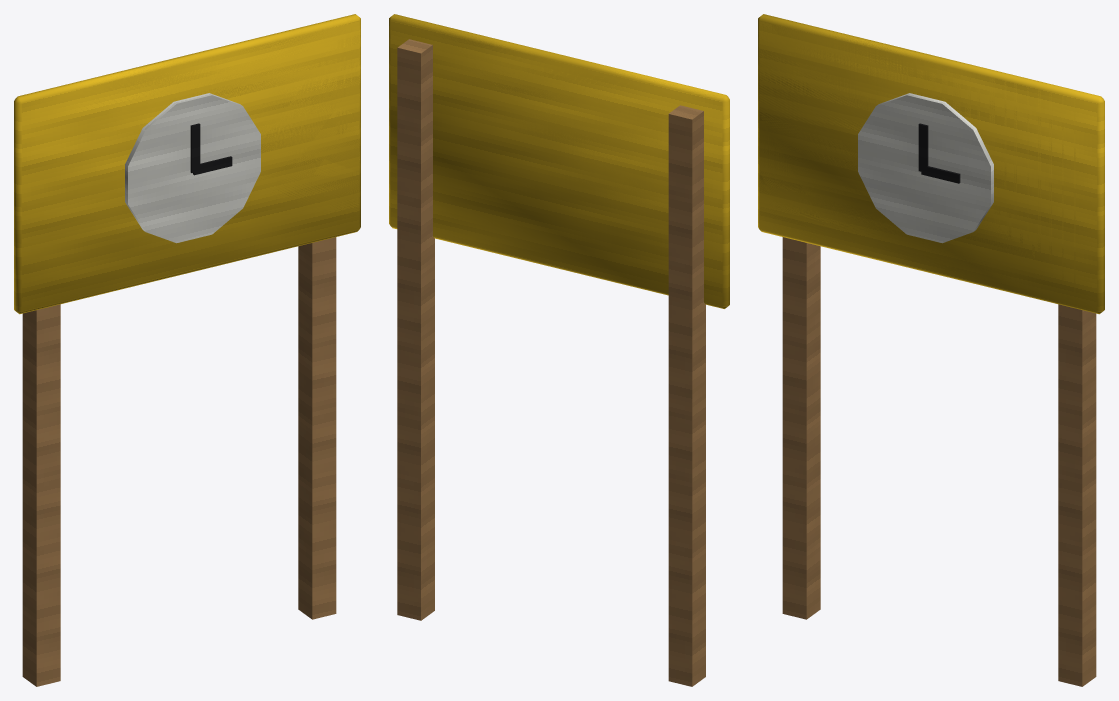
Rendered from placa_ponto_controle.glb.
3 views of the same model, side by side, from view 1: azimuth 30°, elevation 25°; view 2: azimuth 150°, elevation 25°; view 3: azimuth 330°, elevation 25° (orthographic).
Visible parts, largest first — view 1: Inteiro, Peca_02; view 2: Inteiro, Peca_02; view 3: Inteiro, Peca_02.
Boxes of the visible parts, x1,y1,x2,y2 form: Inteiro: (14,14,360,686); Peca_02: (38,14,360,231); Inteiro: (389,14,729,686); Peca_02: (390,16,722,183); Inteiro: (758,14,1104,686); Peca_02: (758,14,1075,292).
Bounding box in the file's own units: 1 × 1.65 × 0.118.
1 material, 1 textured.
